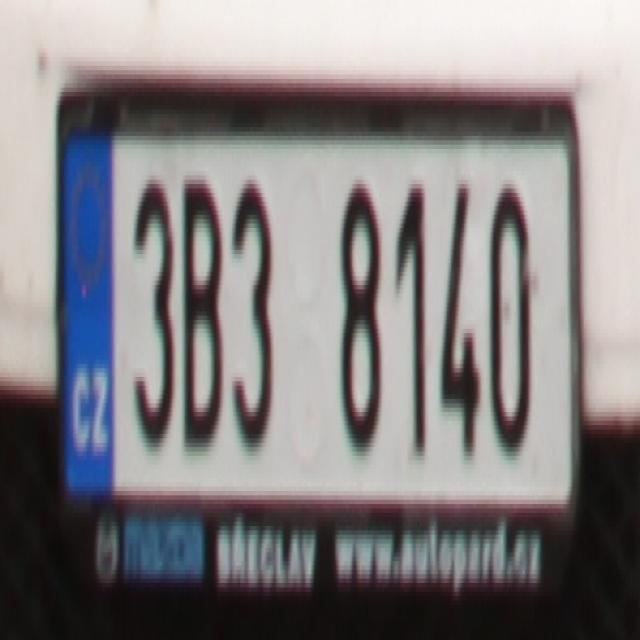0: (488, 180, 530, 456)
1: (391, 180, 429, 456)
3: (230, 171, 272, 447), (130, 166, 173, 434)
4: (439, 171, 481, 456)
8: (335, 171, 382, 447)
B: (179, 166, 224, 452)
